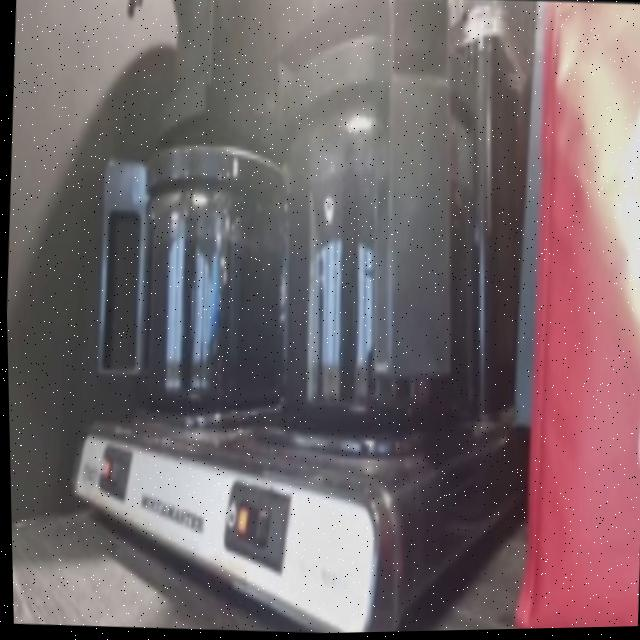coffee: (276, 146, 482, 430), (133, 193, 290, 403)
